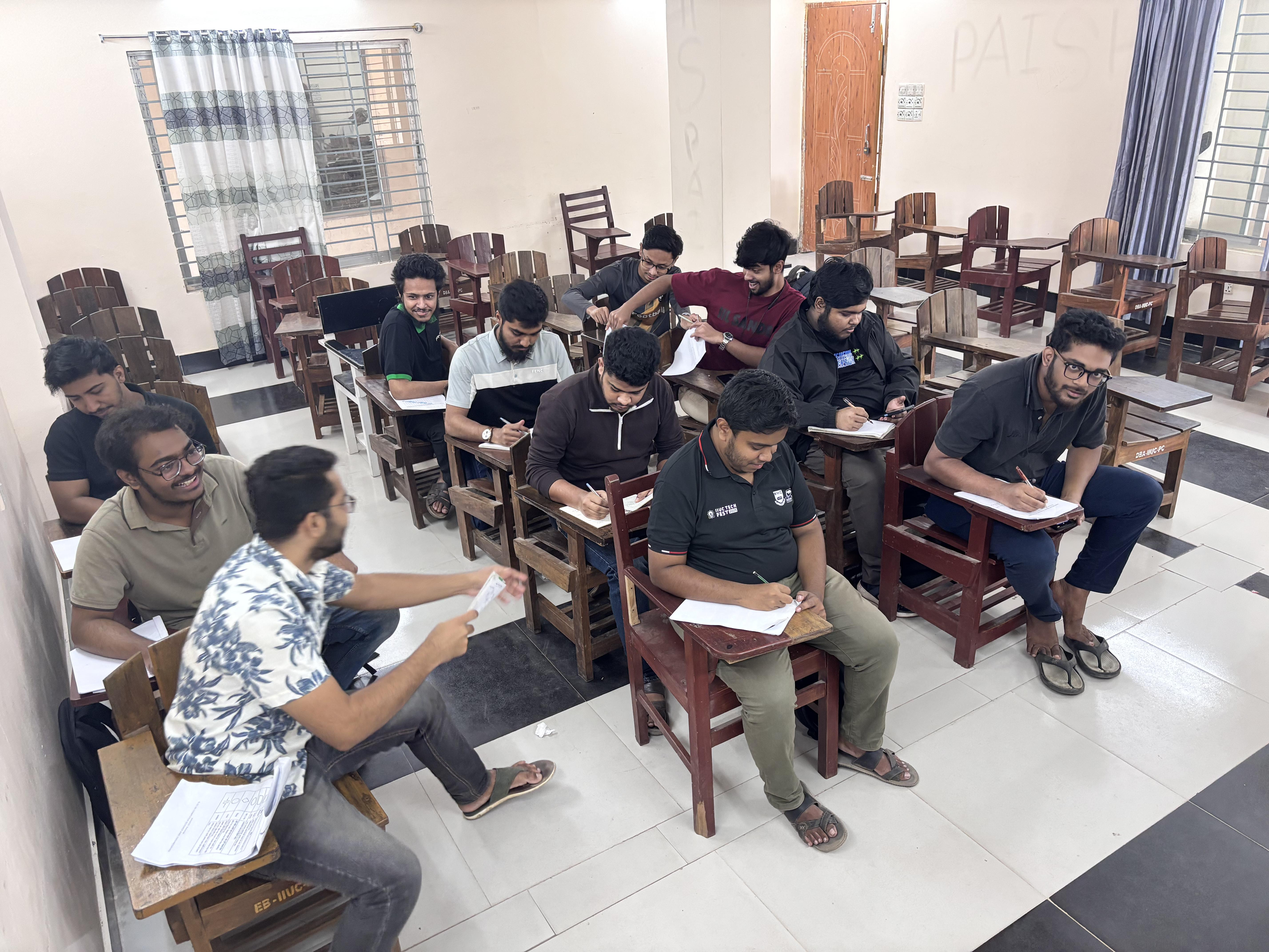exchanging_sheets: (60, 420, 528, 782)
no_cheating: (634, 354, 911, 783), (914, 310, 1166, 609), (565, 229, 808, 379), (529, 327, 690, 542), (435, 279, 606, 469), (29, 331, 128, 515)
side_talking: (369, 247, 469, 431)
using_phone: (765, 257, 944, 465)
